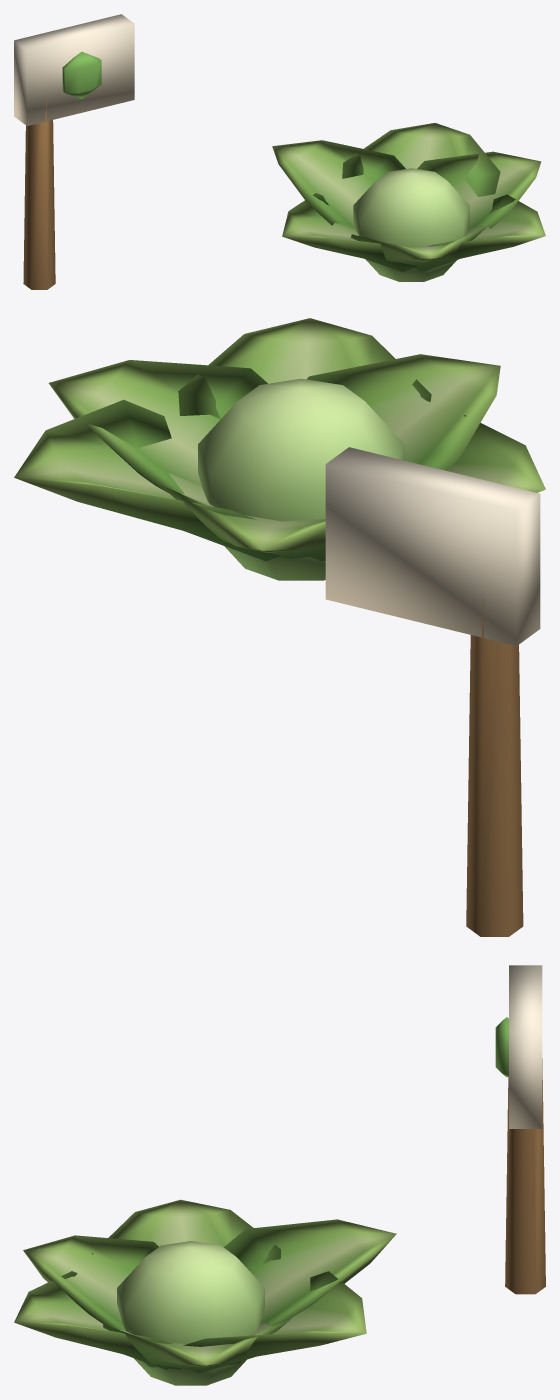
File: prop-crop-cabbage-young.glb
3 views of the same model, one above another, from view 1: azimuth 30°, elevation 25°; view 2: azimuth 150°, elevation 25°; view 3: azimuth 270°, elevation 25° (orthographic). The views are drawn at different scales.
Parts seen in each view (by area): view 1: body, leaf; view 2: body, leaf; view 3: leaf, body.
Boxes of the visible parts, bbox=[...] form: body: bbox=[14, 14, 469, 289]; leaf: bbox=[272, 123, 545, 272]; body: bbox=[198, 378, 540, 936]; leaf: bbox=[14, 318, 545, 561]; leaf: bbox=[14, 1199, 396, 1373]; body: bbox=[117, 965, 545, 1385].
Bounding box in the file's own units: 0.625 × 0.3675 × 0.5726.
